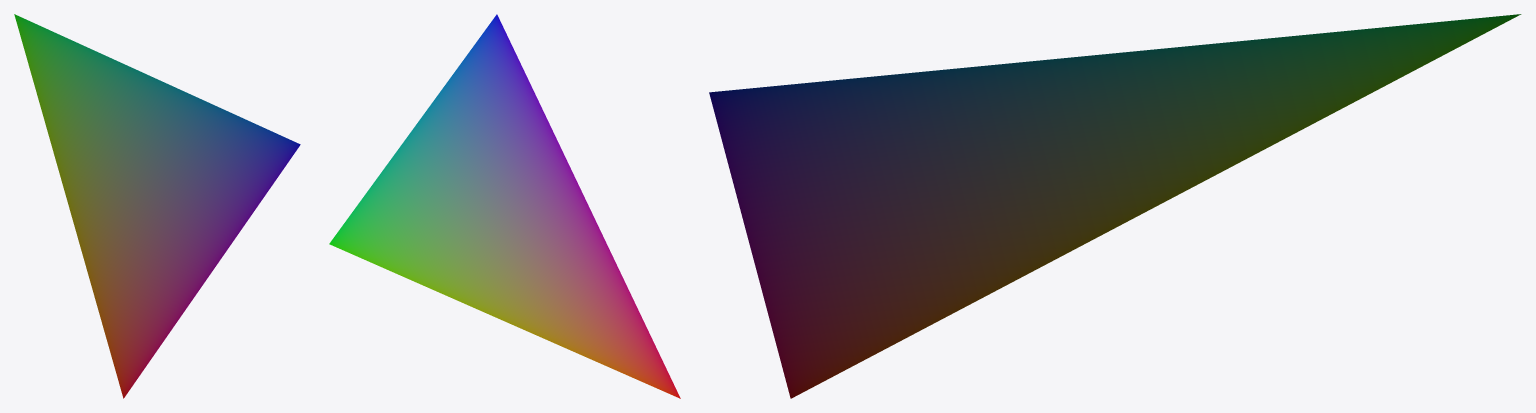
File: face_cleaning_conquest_41.obj
3 views of the same model, side by side, from view 1: azimuth 30°, elevation 25°; view 2: azimuth 150°, elevation 25°; view 3: azimuth 270°, elevation 25° (orthographic). The views are drawn at different scales.
Bounding box in the file's own units: 0.3542 × 0.5 × 0.8046.
